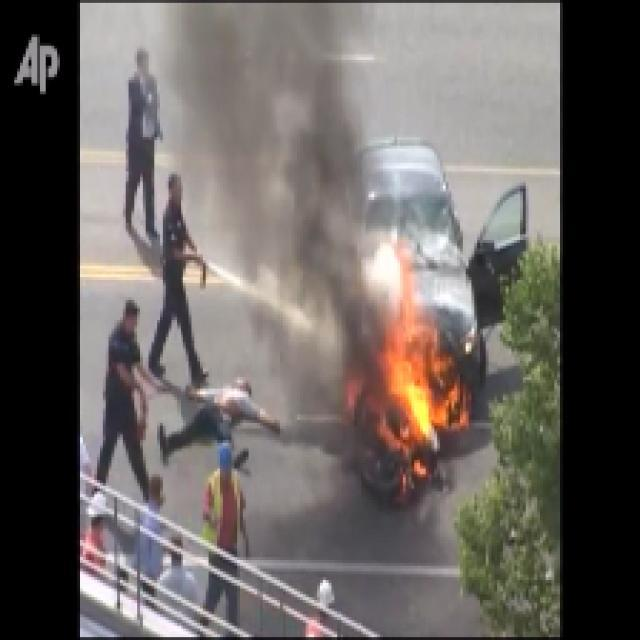Fire: (389, 341, 456, 444)
Smoke: (210, 2, 348, 285)
